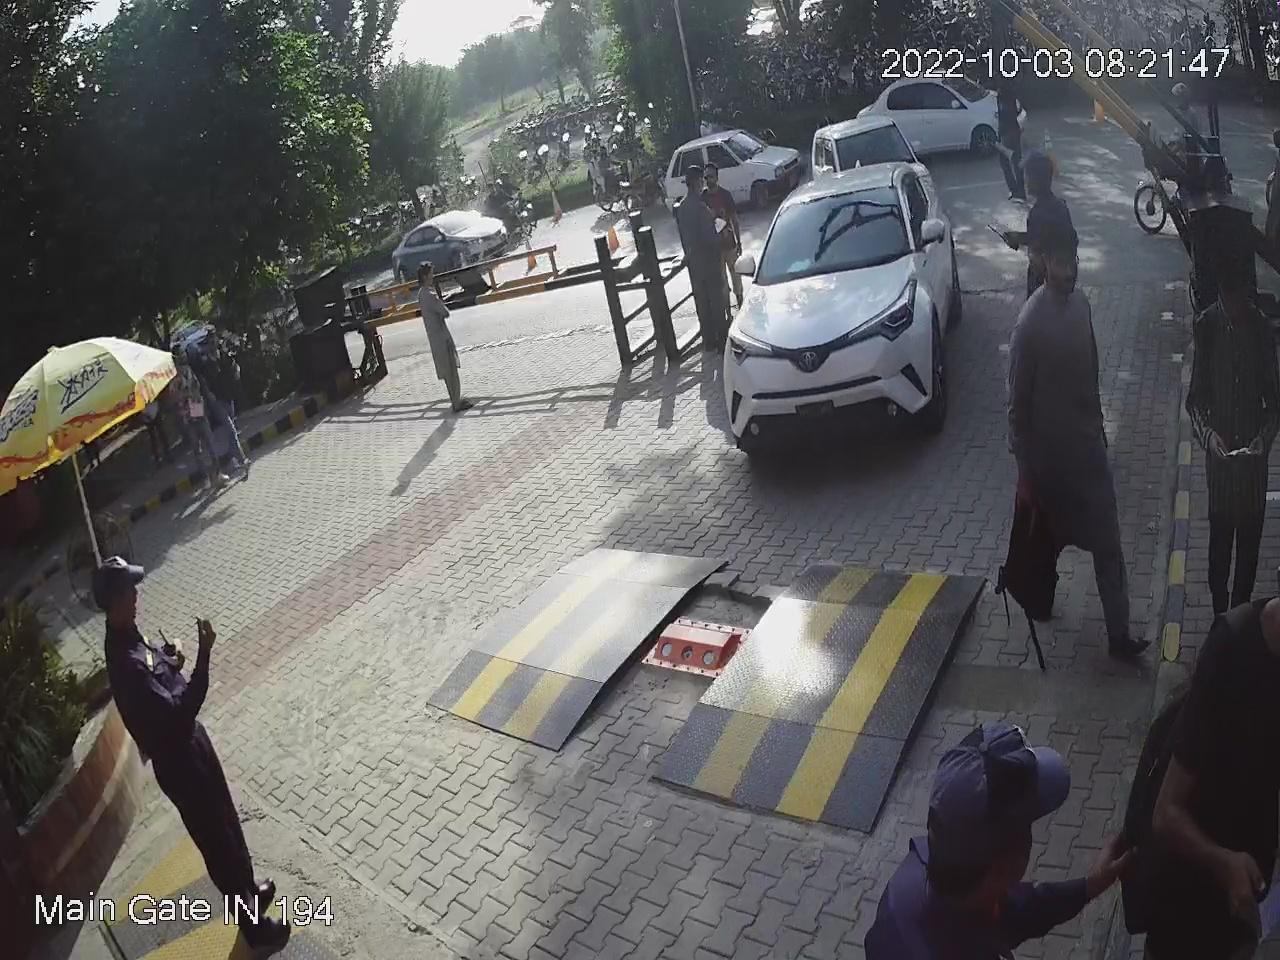windshield: (751, 172, 913, 280)
